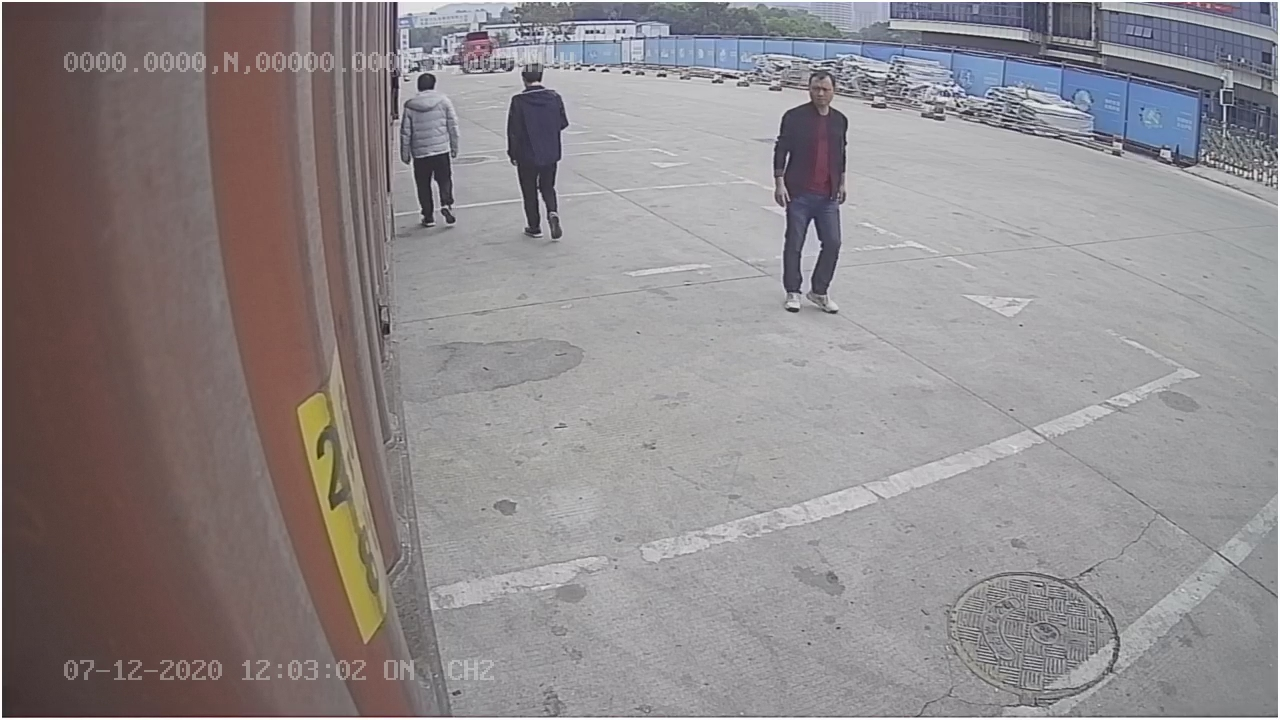person: (775, 73, 850, 317)
